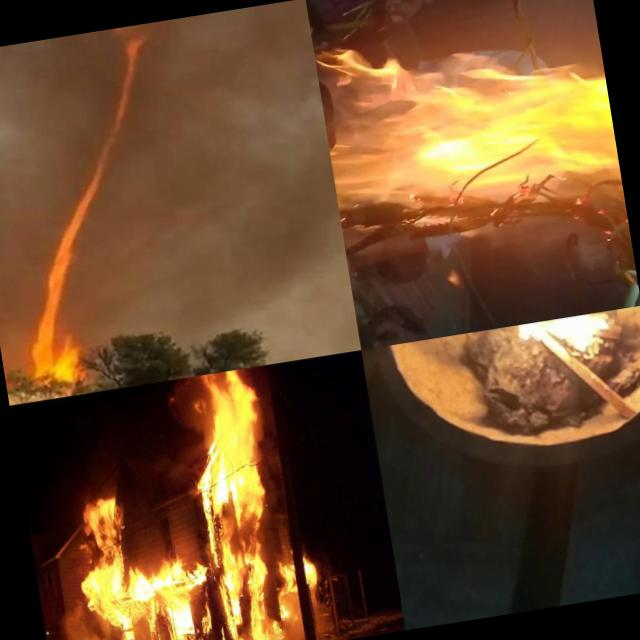fire: (52, 364, 308, 636), (458, 0, 640, 326), (486, 310, 626, 374), (151, 605, 288, 640), (61, 142, 127, 214), (15, 267, 76, 330), (26, 322, 84, 388), (38, 212, 92, 268), (108, 38, 152, 94), (99, 90, 139, 144), (300, 550, 324, 588)
smoke: (138, 19, 338, 232), (67, 205, 354, 346), (0, 48, 71, 227), (44, 40, 112, 148), (108, 137, 168, 238), (0, 224, 28, 362), (283, 596, 336, 640), (55, 596, 90, 640), (62, 628, 159, 640)
